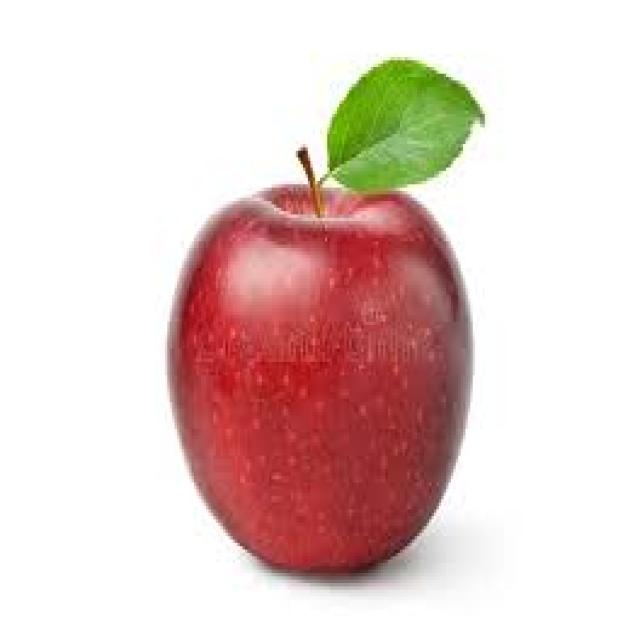apple: (165, 176, 484, 580)
